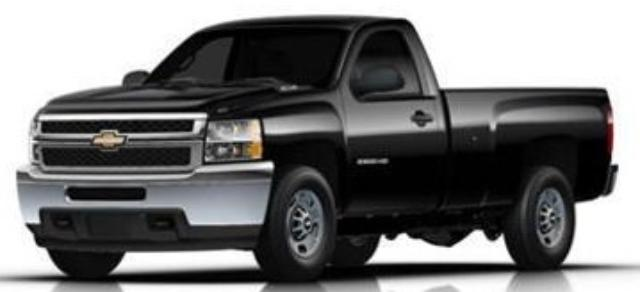pickup-truck: (16, 15, 619, 283)
